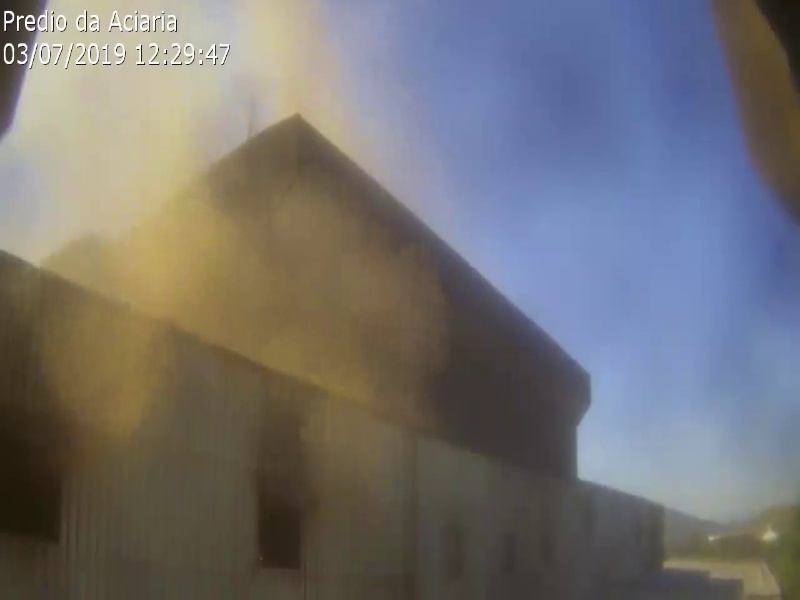Pessimo: (17, 63, 495, 538)
